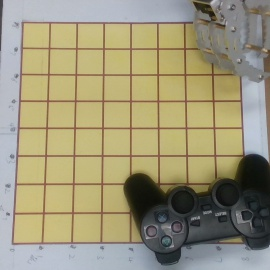remote: (119, 153, 270, 263)
